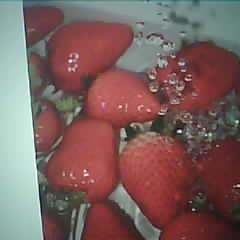straw-ripe: (119, 133, 191, 227)
